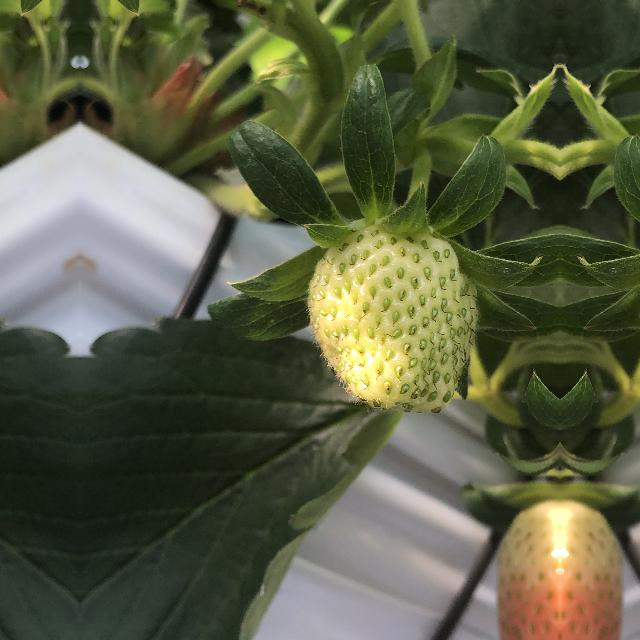Health_25: (305, 220, 481, 416)
